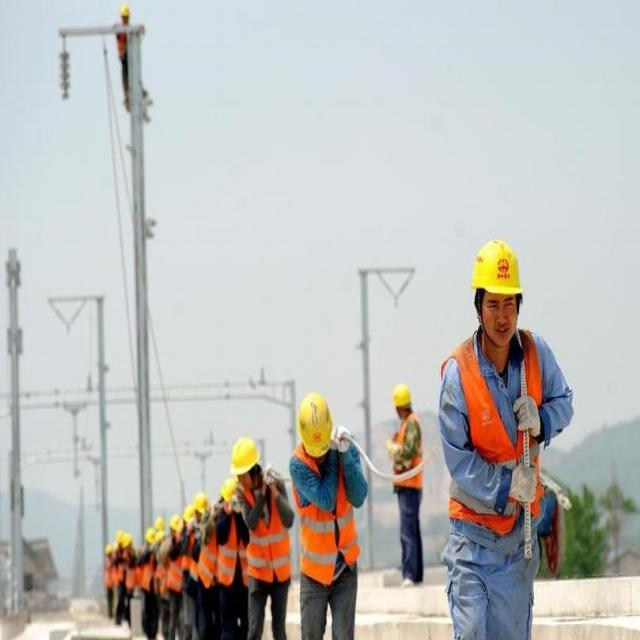reflective_jacket: (442, 331, 546, 530), (295, 442, 354, 577), (245, 482, 291, 580), (394, 416, 424, 488)
safety_helmet: (467, 234, 526, 299), (295, 389, 335, 458), (229, 433, 260, 475), (390, 381, 413, 410)
